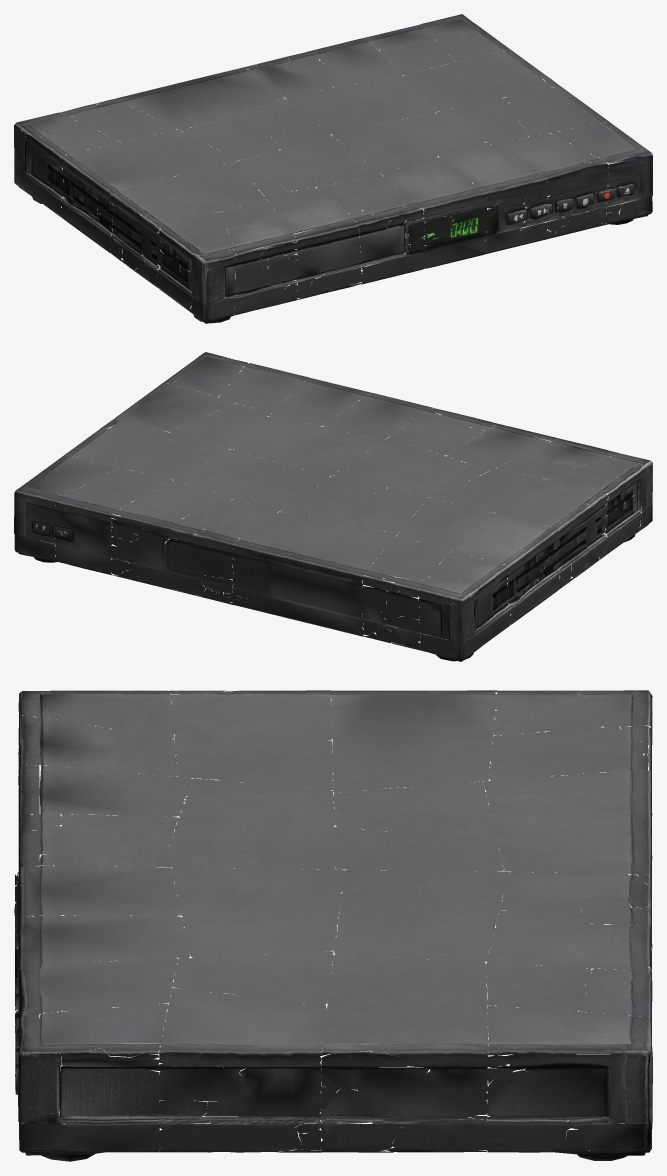
File: vcr.glb
3 views of the same model, one above another, from view 1: azimuth 30°, elevation 25°; view 2: azimuth 150°, elevation 25°; view 3: azimuth 270°, elevation 25° (orthographic). The views are drawn at different scales.
Parts seen in each view (by area): view 1: prop_vcr; view 2: prop_vcr; view 3: prop_vcr.
Part boxes in pixels (<box>): prop_vcr: <box>14,14,652,323</box>; prop_vcr: <box>14,352,652,661</box>; prop_vcr: <box>14,690,652,1161</box>.
Bounding box in the file's own units: 0.9817 × 0.1472 × 0.7289.
1 material, 1 textured.
